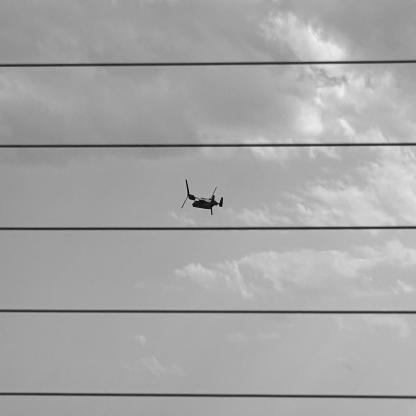V22: (183, 181, 225, 217)
